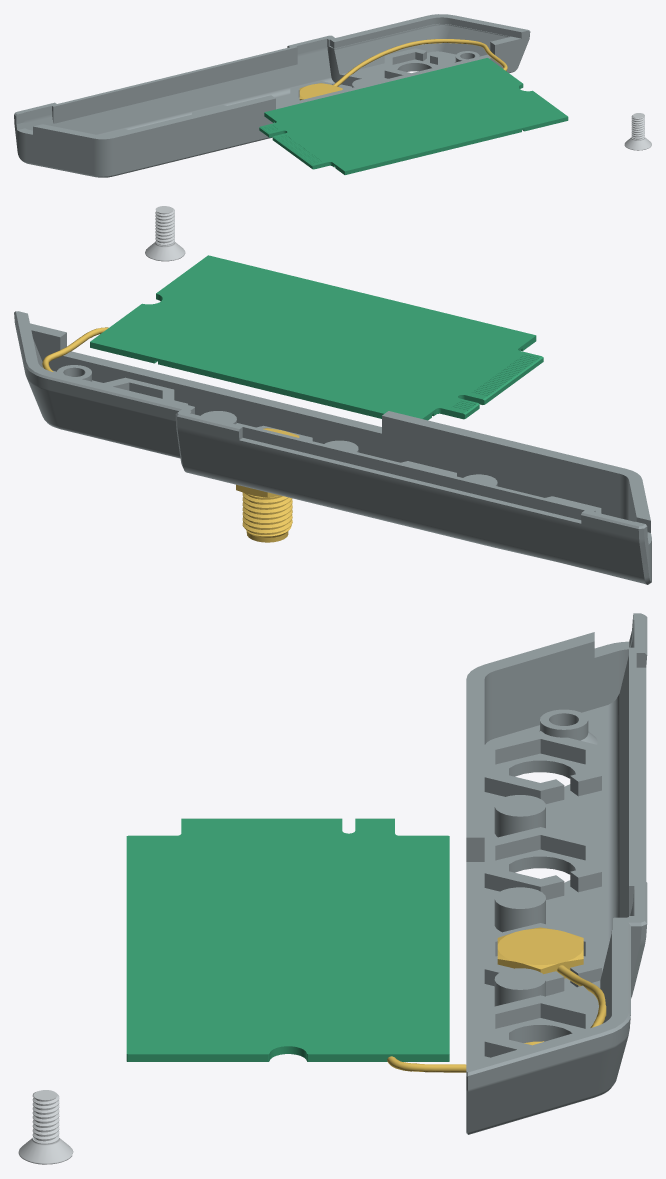
Rendered from before.glb.
3 renders of one model, top to bottom at view 1: azimuth 30°, elevation 25°; view 2: azimuth 150°, elevation 25°; view 3: azimuth 270°, elevation 25°, orthographic. The views are drawn at different scales.
Parts seen in each view (by area): view 1: rail, m2board, sma, screw; view 2: rail, m2board, sma, screw; view 3: rail, m2board, sma, screw.
Boxes of the visible parts, x1,y1,x2,y2 form: rail: (14,14,530,177); m2board: (259,58,568,174); sma: (299,39,507,100); screw: (624,113,651,150); rail: (14,311,651,584); m2board: (90,255,543,420); sma: (42,327,299,542); screw: (145,206,185,261); rail: (466,613,647,1134); m2board: (126,818,449,1061); sma: (387,927,606,1072); screw: (18,1090,73,1164).
Size of the model in its own units: 0.1045 by 0.0193 by 0.0584.
